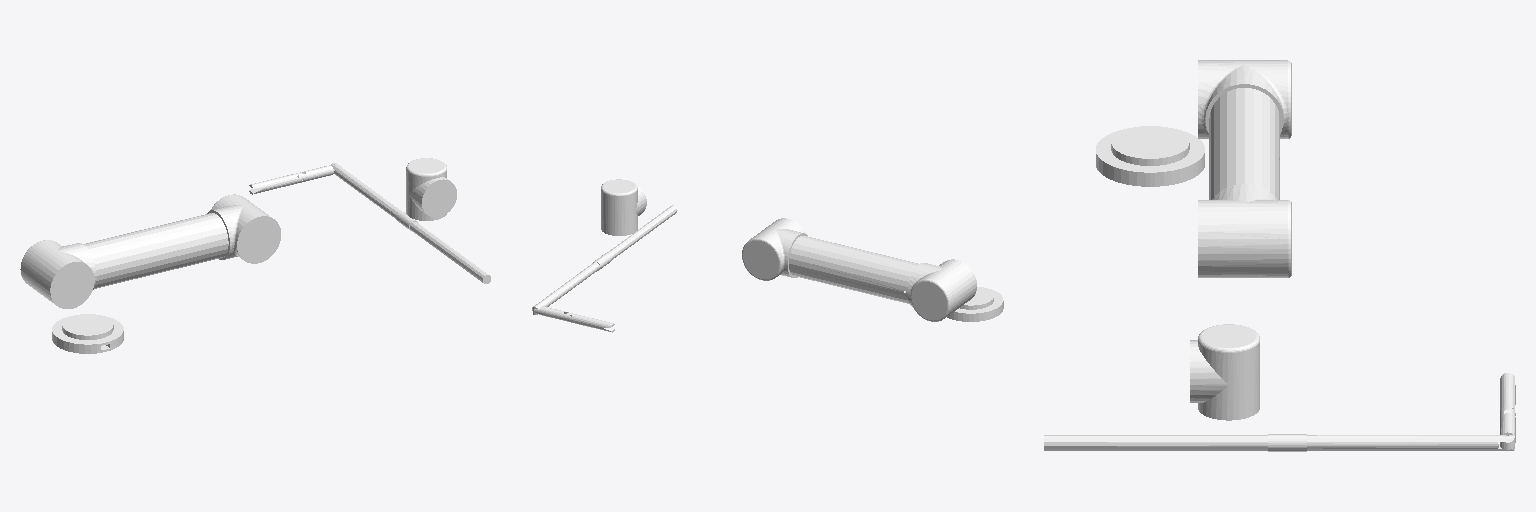
URDF robot description (dofnine2):
<?xml version="1.0" encoding="utf-8"?>
<!-- This URDF was automatically created by SolidWorks to URDF Exporter! Originally created by [author] ([email redacted]) 
     Commit Version: 1.5.1-0-g916b5db  Build Version: 1.5.7152.31018
     For more information, please see http://wiki.ros.org/sw_urdf_exporter -->
<robot
  name="dofnine2">
  <link
    name="base_link">
    <inertial>
      <origin
        xyz="9.1669E-19 0.0006188 0.01308"
        rpy="0 0 0" />
      <mass
        value="0.38246" />
      <inertia
        ixx="0.00043672"
        ixy="-5.14E-21"
        ixz="6.9161E-21"
        iyy="0.00045103"
        iyz="7.29E-07"
        izz="0.00083789" />
    </inertial>
    <visual>
      <origin
        xyz="0 0 0"
        rpy="0 0 0" />
      <geometry>
        <mesh
          filename="package://dofnine2/meshes/base_link.STL" />
      </geometry>
      <material
        name="">
        <color
          rgba="1 1 1 1" />
      </material>
    </visual>
    <collision>
      <origin
        xyz="0 0 0"
        rpy="0 0 0" />
      <geometry>
        <mesh
          filename="package://dofnine2/meshes/base_link.STL" />
      </geometry>
    </collision>
  </link>
  <link
    name="Link1">
    <inertial>
      <origin
        xyz="4.2686E-10 -8.9895E-05 0.0063042"
        rpy="0 0 0" />
      <mass
        value="1.0794" />
      <inertia
        ixx="0.0020879"
        ixy="-1.4826E-10"
        ixz="3.8162E-10"
        iyy="0.0016041"
        iyz="-6.1066E-07"
        izz="0.0019142" />
    </inertial>
    <visual>
      <origin
        xyz="0 0 0"
        rpy="0 0 0" />
      <geometry>
        <mesh
          filename="package://dofnine2/meshes/Link1.STL" />
      </geometry>
      <material
        name="">
        <color
          rgba="1 1 1 1" />
      </material>
    </visual>
    <collision>
      <origin
        xyz="0 0 0"
        rpy="0 0 0" />
      <geometry>
        <mesh
          filename="package://dofnine2/meshes/Link1.STL" />
      </geometry>
    </collision>
  </link>
  <joint
    name="joint1"
    type="revolute">
    <origin
      xyz="0 0 0.09"
      rpy="1.5708 0 3.1416" />
    <parent
      link="base_link" />
    <child
      link="Link1" />
    <axis
      xyz="0 1 0" />
    <limit
      lower="-3.14"
      upper="3.14"
      effort="100"
      velocity="3" />
  </joint>
  <link
    name="Link2">
    <inertial>
      <origin
        xyz="0.20999 -6.7298E-12 0.11992"
        rpy="0 0 0" />
      <mass
        value="2.5593" />
      <inertia
        ixx="0.0045543"
        ixy="9.5236E-10"
        ixz="5.851E-07"
        iyy="0.097115"
        iyz="7.8875E-13"
        izz="0.096147" />
    </inertial>
    <visual>
      <origin
        xyz="0 0 0"
        rpy="0 0 0" />
      <geometry>
        <mesh
          filename="package://dofnine2/meshes/Link2.STL" />
      </geometry>
      <material
        name="">
        <color
          rgba="1 1 1 1" />
      </material>
    </visual>
    <collision>
      <origin
        xyz="0 0 0"
        rpy="0 0 0" />
      <geometry>
        <mesh
          filename="package://dofnine2/meshes/Link2.STL" />
      </geometry>
    </collision>
  </link>
  <joint
    name="joint2"
    type="revolute">
    <origin
      xyz="-0.42 0 0"
      rpy="0 0 0" />
    <parent
      link="Link1" />
    <child
      link="Link2" />
    <axis
      xyz="0 0 1" />
    <limit
      lower="-3.14"
      upper="3.14"
      effort="100"
      velocity="3" />
  </joint>
  <link
    name="Link3">
    <inertial>
      <origin
        xyz="0.1417 9.2942E-08 0.002554"
        rpy="0 0 0" />
      <mass
        value="1.1711" />
      <inertia
        ixx="0.0016101"
        ixy="-1.5519E-08"
        ixz="-0.00077549"
        iyy="0.030627"
        iyz="2.7799E-08"
        izz="0.030394" />
    </inertial>
    <visual>
      <origin
        xyz="0 0 0"
        rpy="0 0 0" />
      <geometry>
        <mesh
          filename="package://dofnine2/meshes/Link3.STL" />
      </geometry>
      <material
        name="">
        <color
          rgba="1 1 1 1" />
      </material>
    </visual>
    <collision>
      <origin
        xyz="0 0 0"
        rpy="0 0 0" />
      <geometry>
        <mesh
          filename="package://dofnine2/meshes/Link3.STL" />
      </geometry>
    </collision>
  </link>
  <joint
    name="joint3"
    type="revolute">
    <origin
      xyz="-0.4 0 0"
      rpy="0 0 0" />
    <parent
      link="Link2" />
    <child
      link="Link3" />
    <axis
      xyz="0 0 1" />
    <limit
      lower="-3.14"
      upper="3.14"
      effort="100"
      velocity="3" />
  </joint>
  <link
    name="Link4">
    <inertial>
      <origin
        xyz="1.2298E-09 -0.0056137 0.00011006"
        rpy="0 0 0" />
      <mass
        value="0.58201" />
      <inertia
        ixx="0.0007618"
        ixy="1.4963E-11"
        ixz="4.4791E-11"
        iyy="0.00068944"
        iyz="-3.5959E-07"
        izz="0.00056434" />
    </inertial>
    <visual>
      <origin
        xyz="0 0 0"
        rpy="0 0 0" />
      <geometry>
        <mesh
          filename="package://dofnine2/meshes/Link4.STL" />
      </geometry>
      <material
        name="">
        <color
          rgba="1 1 1 1" />
      </material>
    </visual>
    <collision>
      <origin
        xyz="0 0 0"
        rpy="0 0 0" />
      <geometry>
        <mesh
          filename="package://dofnine2/meshes/Link4.STL" />
      </geometry>
    </collision>
  </link>
  <joint
    name="joint4"
    type="revolute">
    <origin
      xyz="0 0 0.1"
      rpy="1.5708 0 0" />
    <parent
      link="Link3" />
    <child
      link="Link4" />
    <axis
      xyz="0 -1 0" />
    <limit
      lower="-3.14"
      upper="3.14"
      effort="100"
      velocity="3" />
  </joint>
  <link
    name="Link5">
    <inertial>
      <origin
        xyz="-1.1025E-09 0.0060608 -0.00087677"
        rpy="0 0 0" />
      <mass
        value="0.53907" />
      <inertia
        ixx="0.00070005"
        ixy="2.8082E-11"
        ixz="-3.7536E-11"
        iyy="0.00062916"
        iyz="-2.8643E-06"
        izz="0.00054563" />
    </inertial>
    <visual>
      <origin
        xyz="0 0 0"
        rpy="0 0 0" />
      <geometry>
        <mesh
          filename="package://dofnine2/meshes/Link5.STL" />
      </geometry>
      <material
        name="">
        <color
          rgba="1 1 1 1" />
      </material>
    </visual>
    <collision>
      <origin
        xyz="0 0 0"
        rpy="0 0 0" />
      <geometry>
        <mesh
          filename="package://dofnine2/meshes/Link5.STL" />
      </geometry>
    </collision>
  </link>
  <joint
    name="joint5"
    type="revolute">
    <origin
      xyz="0 0 0.1"
      rpy="-1.5708 0 0" />
    <parent
      link="Link4" />
    <child
      link="Link5" />
    <axis
      xyz="0 -1 0" />
    <limit
      lower="-3.14"
      upper="3.14"
      effort="100"
      velocity="3" />
  </joint>
  <link
    name="Link6">
    <inertial>
      <origin
        xyz="-3.3307E-16 -5.6032E-16 -0.025"
        rpy="0 0 0" />
      <mass
        value="0.0032987" />
      <inertia
        ixx="8.6948E-07"
        ixy="-2.4815E-23"
        ixz="5.1433E-22"
        iyy="8.6948E-07"
        iyz="6.9358E-24"
        izz="3.645E-07" />
    </inertial>
    <visual>
      <origin
        xyz="0 0 0"
        rpy="0 0 0" />
      <geometry>
        <mesh
          filename="package://dofnine2/meshes/Link6.STL" />
      </geometry>
      <material
        name="">
        <color
          rgba="1 1 1 1" />
      </material>
    </visual>
    <collision>
      <origin
        xyz="0 0 0"
        rpy="0 0 0" />
      <geometry>
        <mesh
          filename="package://dofnine2/meshes/Link6.STL" />
      </geometry>
    </collision>
  </link>
  <joint
    name="joint6"
    type="revolute">
    <origin
      xyz="0 0 0.1"
      rpy="0 0 0" />
    <parent
      link="Link5" />
    <child
      link="Link6" />
    <axis
      xyz="0 0 1" />
    <limit
      lower="-3.14"
      upper="3.14"
      effort="100"
      velocity="3" />
  </joint>
  <link
    name="Link7">
    <inertial>
      <origin
        xyz="3.1885E-09 -0.29766 2.9817E-08"
        rpy="0 0 0" />
      <mass
        value="0.18362" />
      <inertia
        ixx="0.0052429"
        ixy="-1.4282E-10"
        ixz="2.891E-13"
        iyy="9.233E-06"
        iyz="-1.3378E-09"
        izz="0.0052429" />
    </inertial>
    <visual>
      <origin
        xyz="0 0 0"
        rpy="0 0 0" />
      <geometry>
        <mesh
          filename="package://dofnine2/meshes/Link7.STL" />
      </geometry>
      <material
        name="">
        <color
          rgba="1 1 1 1" />
      </material>
    </visual>
    <collision>
      <origin
        xyz="0 0 0"
        rpy="0 0 0" />
      <geometry>
        <mesh
          filename="package://dofnine2/meshes/Link7.STL" />
      </geometry>
    </collision>
  </link>
  <joint
    name="joint7"
    type="prismatic">
    <origin
      xyz="0 0 0"
      rpy="1.5708 0 0" />
    <parent
      link="Link6" />
    <child
      link="Link7" />
    <axis
      xyz="0 1 0" />
    <limit
      lower="0.01"
      upper="0.5"
      effort="100"
      velocity="3" />
  </joint>
  <link
    name="Link8">
    <inertial>
      <origin
        xyz="-0.043248 -4.6718E-09 3.9744E-08"
        rpy="0 0 0" />
      <mass
        value="0.023875" />
      <inertia
        ixx="1.1971E-06"
        ixy="4.4295E-12"
        ixz="-3.8291E-11"
        iyy="1.4588E-05"
        iyz="8.1423E-14"
        izz="1.4442E-05" />
    </inertial>
    <visual>
      <origin
        xyz="0 0 0"
        rpy="0 0 0" />
      <geometry>
        <mesh
          filename="package://dofnine2/meshes/Link8.STL" />
      </geometry>
      <material
        name="">
        <color
          rgba="1 1 1 1" />
      </material>
    </visual>
    <collision>
      <origin
        xyz="0 0 0"
        rpy="0 0 0" />
      <geometry>
        <mesh
          filename="package://dofnine2/meshes/Link8.STL" />
      </geometry>
    </collision>
  </link>
  <joint
    name="joint8"
    type="revolute">
    <origin
      xyz="0.08 0 0"
      rpy="-1.5708 0 0" />
    <parent
      link="Link7" />
    <child
      link="Link8" />
    <axis
      xyz="0 1 0" />
    <limit
      lower="-3.14"
      upper="3.14"
      effort="100"
      velocity="3" />
  </joint>
  <link
    name="Link9">
    <inertial>
      <origin
        xyz="-0.059037 3.9899E-17 -5.5511E-17"
        rpy="0 0 0" />
      <mass
        value="0.033078" />
      <inertia
        ixx="1.6325E-06"
        ixy="1.2125E-21"
        ixz="-1.9821E-19"
        iyy="3.3309E-05"
        iyz="-2.9569E-21"
        izz="3.3424E-05" />
    </inertial>
    <visual>
      <origin
        xyz="0 0 0"
        rpy="0 0 0" />
      <geometry>
        <mesh
          filename="package://dofnine2/meshes/Link9.STL" />
      </geometry>
      <material
        name="">
        <color
          rgba="1 1 1 1" />
      </material>
    </visual>
    <collision>
      <origin
        xyz="0 0 0"
        rpy="0 0 0" />
      <geometry>
        <mesh
          filename="package://dofnine2/meshes/Link9.STL" />
      </geometry>
    </collision>
  </link>
  <joint
    name="joint9"
    type="revolute">
    <origin
      xyz="0.11 0 0"
      rpy="0 0 0" />
    <parent
      link="Link8" />
    <child
      link="Link9" />
    <axis
      xyz="0 0 1" />
    <limit
      lower="-3.14"
      upper="3.14"
      effort="100"
      velocity="3" />
  </joint>
</robot>

--- Facts derived from the render (not from the file) ---
The picture shows the robot from 3 angles, left to right: view 1: azimuth 30°, elevation 25°; view 2: azimuth 150°, elevation 25°; view 3: azimuth 270°, elevation 25°; orthographic projection.
Model dofnine2 with 10 links and 9 joints (8 revolute, 1 prismatic), rooted at base_link, posed joints at zero except 1 at the middle of their limits (joint7 = 0.255).
Links seen in each view (by area): view 1: Link2, Link4, base_link, Link7; view 2: Link2, Link4, Link7, base_link; view 3: Link2, Link7, Link4, base_link, Link6, Link9.
Boxes of the visible links, x1=… form: Link2: x1=20, y1=194, x2=280, y2=308; Link4: x1=406, y1=158, x2=456, y2=220; base_link: x1=52, y1=314, x2=123, y2=353; Link7: x1=331, y1=162, x2=490, y2=283; Link2: x1=742, y1=218, x2=976, y2=321; Link4: x1=601, y1=179, x2=646, y2=235; Link7: x1=533, y1=205, x2=677, y2=314; base_link: x1=947, y1=286, x2=1003, y2=321; Link2: x1=1198, y1=60, x2=1291, y2=277; Link7: x1=1044, y1=435, x2=1514, y2=450; Link4: x1=1190, y1=324, x2=1259, y2=420; base_link: x1=1096, y1=126, x2=1204, y2=186; Link6: x1=1268, y1=434, x2=1306, y2=451; Link9: x1=1500, y1=373, x2=1515, y2=413.
Size in the robot's own frame: 0.93 by 0.6 by 0.161 metres.
7 mesh visuals loaded from 10 distinct referenced files (7 binary STL); not drawn: 3 (reference not matched to a file when rendering).
